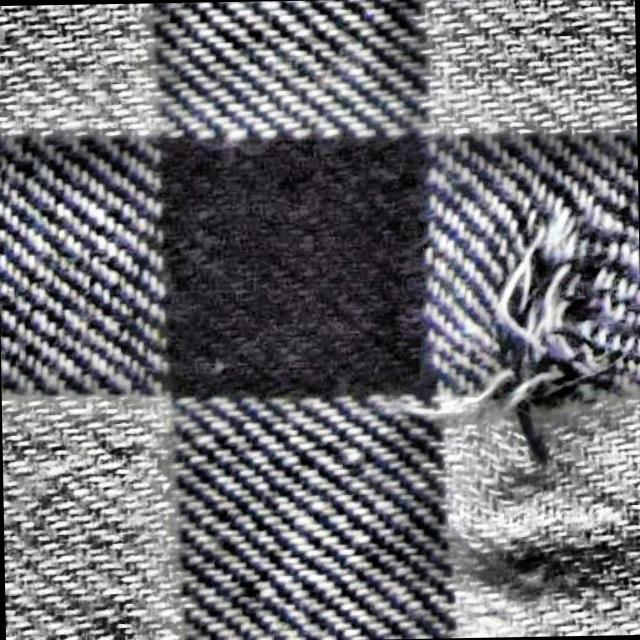cut: (368, 176, 626, 464)
